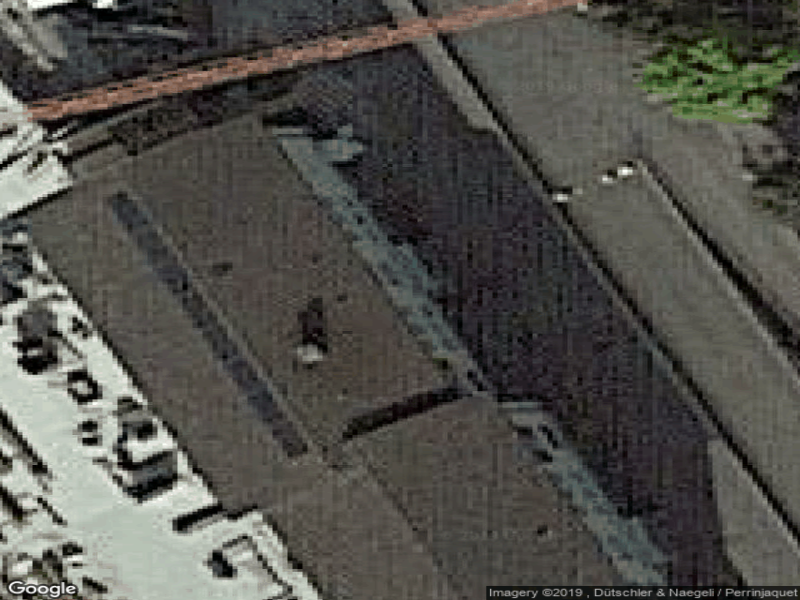pv: (108, 193, 309, 459)
